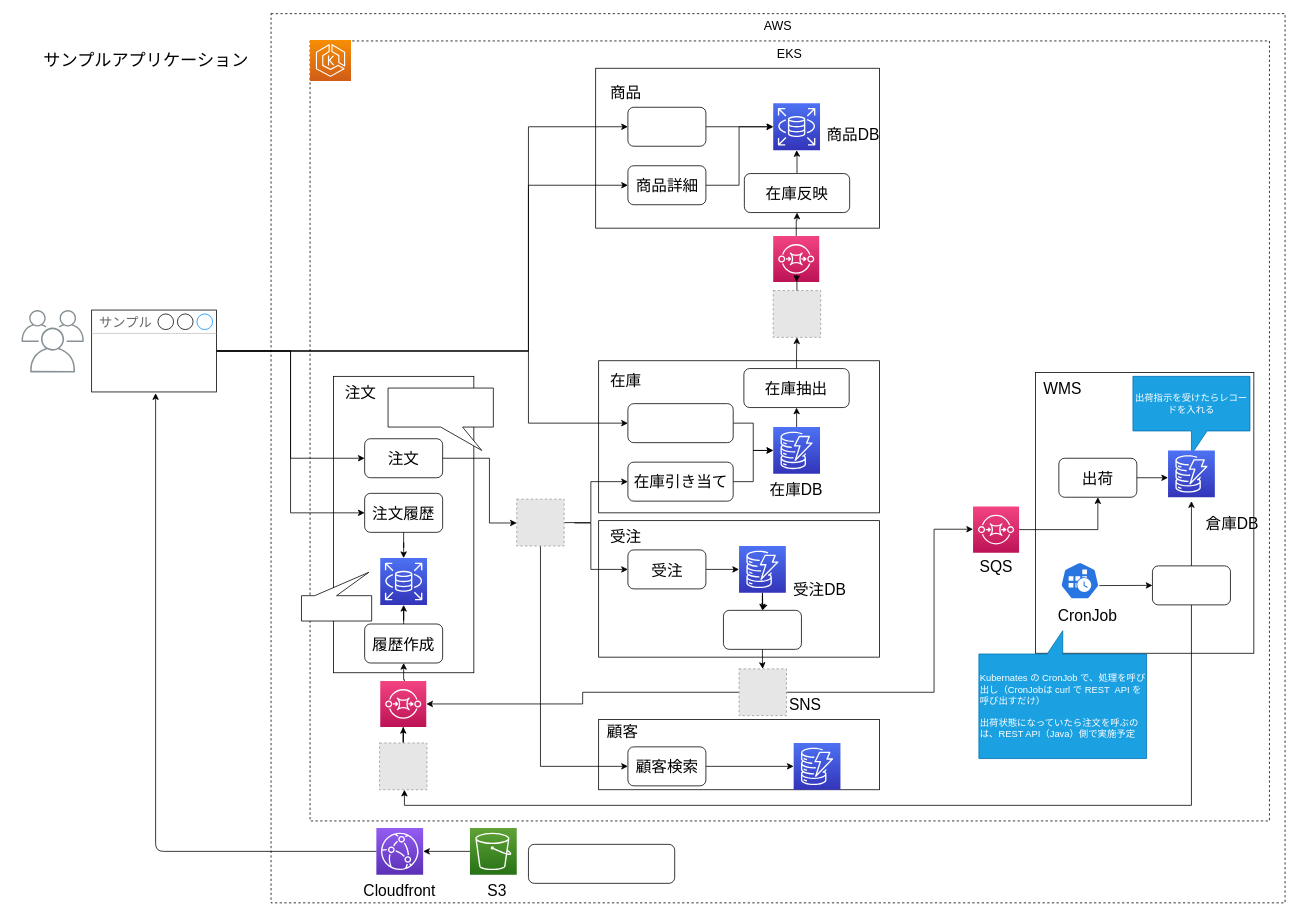
Some shapes in this 1299 by 920 pixel diagram are drawn without their labels. Grey dashed boxes stand in for pictures. The shapes that lost their labels are listed below. From the top down, each one's centre as x and y in pixels, then its label:
At (x=666, y=126): "商品一覧".
At (x=52, y=341): "エンドユーザー".
At (x=440, y=418): "SAGAパターン".
At (x=680, y=423): "在庫参照".
At (x=336, y=596): "CQRS".
At (x=1191, y=585): "出荷状況".
At (x=762, y=629): "出荷指示".
At (x=601, y=863): "クライアントアプリ （React）".
